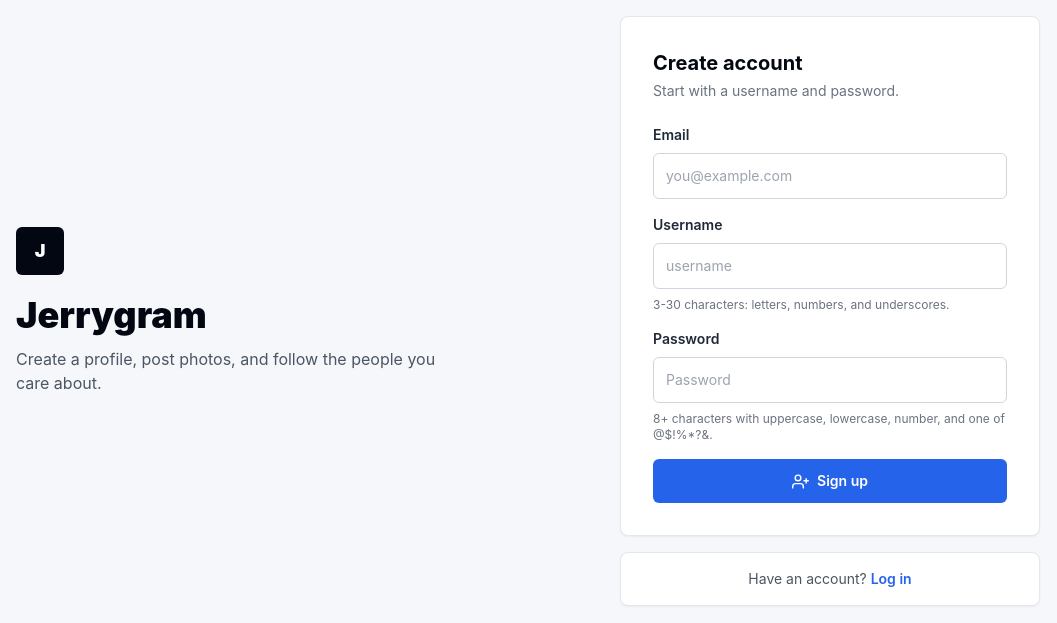
Scenario: RegisterPage › maps duplicate username responses to the username field
The width and height of the screenshot is (1057, 623).
Type "jerry@example.com" into the field labelled "Email".
click(830, 176); type("jerry@example.com")  # box [653,153,1007,199]
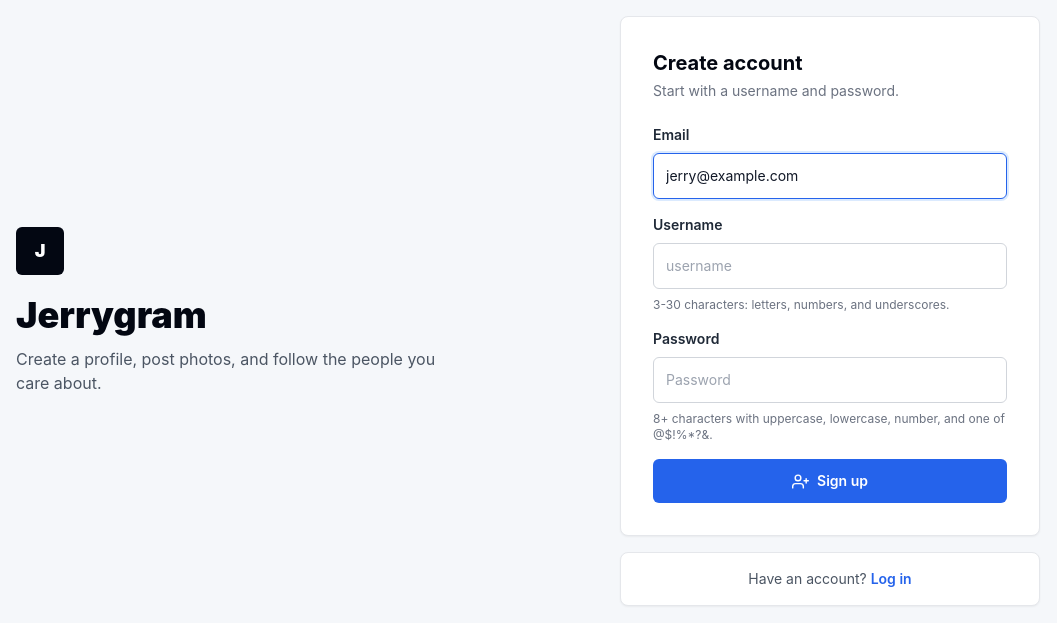
Type "jerry" into the field labelled "Username".
click(830, 266); type("jerry")  # box [653,243,1007,289]
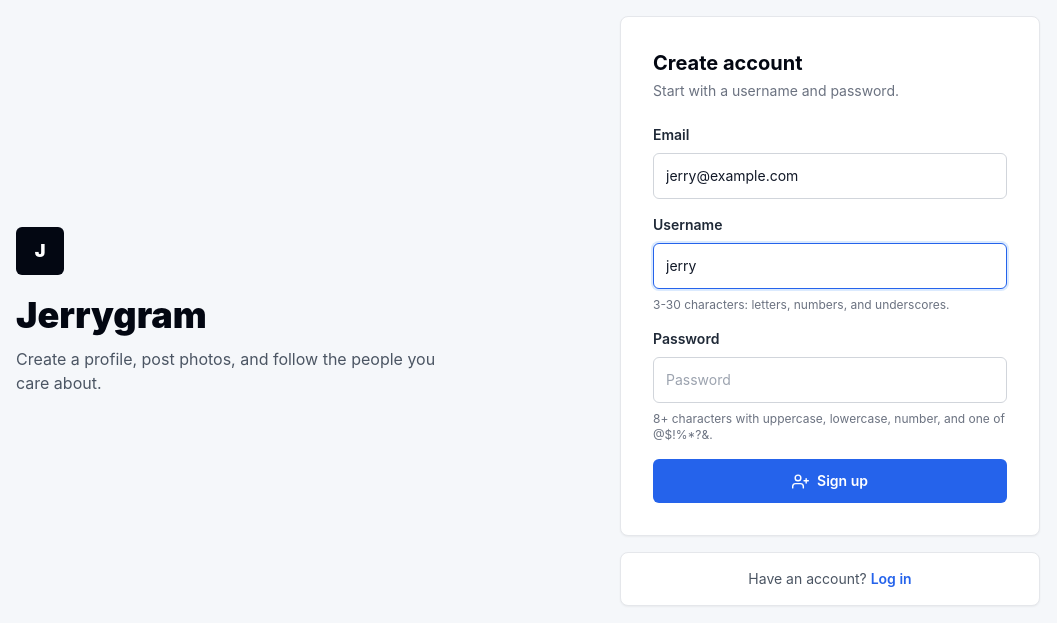
Type "Strong1!" into the password field labelled "Password".
click(830, 380); type("Strong1!")  # box [653,357,1007,403]
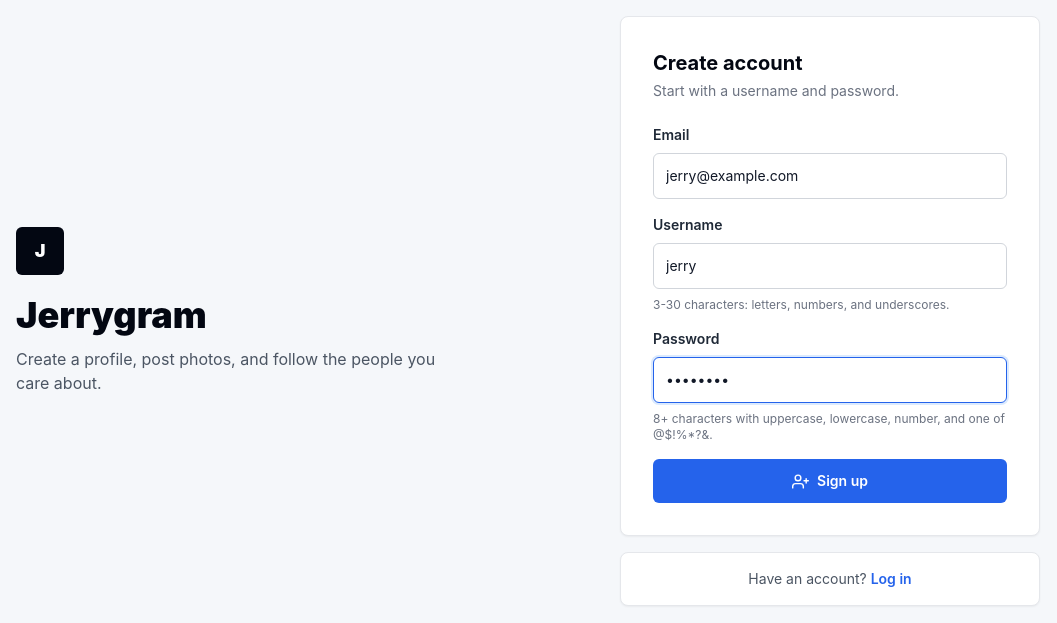
Click the button "Sign up".
click(830, 481)  # box [653,459,1007,503]
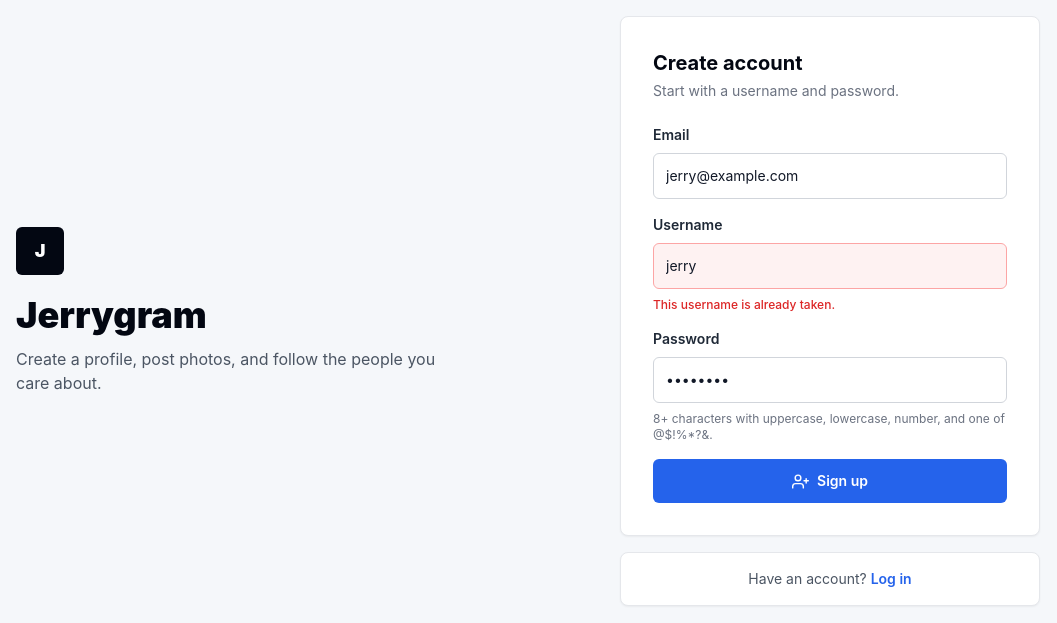
Expected: the text "This username is already taken." is shown, [653,297,835,312]
